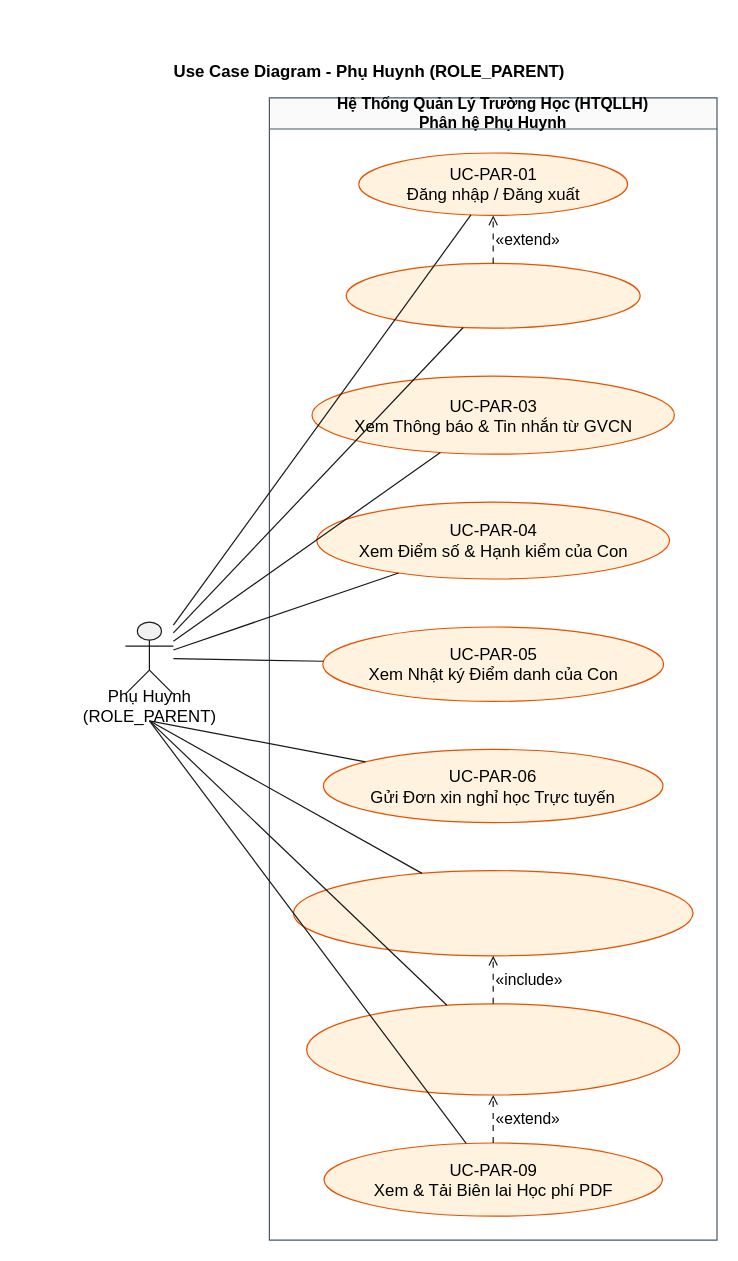
Some shapes in this 738 by 1261 pixel diagram are drawn without their labels. The centre of each missing label's shape, as x and y in pixels:
"UC-PAR-02 Đổi / Khôi phục mật khẩu" goes at (x=492, y=295).
"UC-PAR-07 Xem Thông báo Học phí & Các khoản thu" goes at (x=492, y=912).
"UC-PAR-08 Thanh toán Học phí Trực tuyến (VietQR / MoMo)" goes at (x=492, y=1049).
